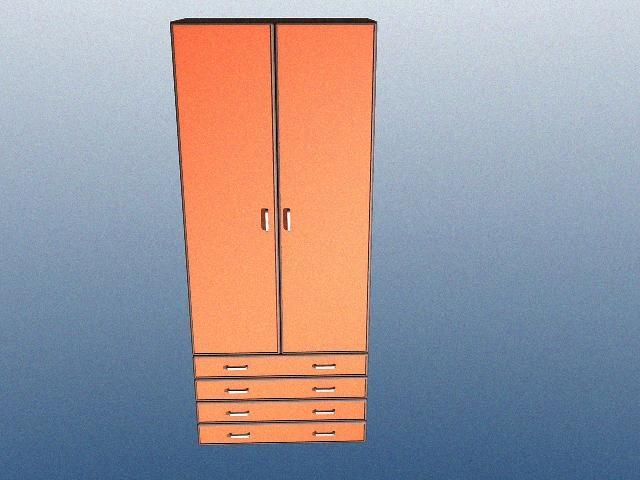cabinet_door: (278, 24, 372, 353), (182, 23, 274, 354), (195, 376, 367, 400), (194, 354, 368, 377), (196, 400, 366, 422), (198, 422, 366, 443)
handle: (260, 204, 271, 235), (281, 206, 293, 233), (221, 363, 249, 370), (310, 362, 336, 369), (223, 433, 252, 439), (224, 411, 252, 417), (223, 386, 251, 392), (310, 386, 336, 392), (309, 410, 334, 415), (310, 432, 335, 437)
